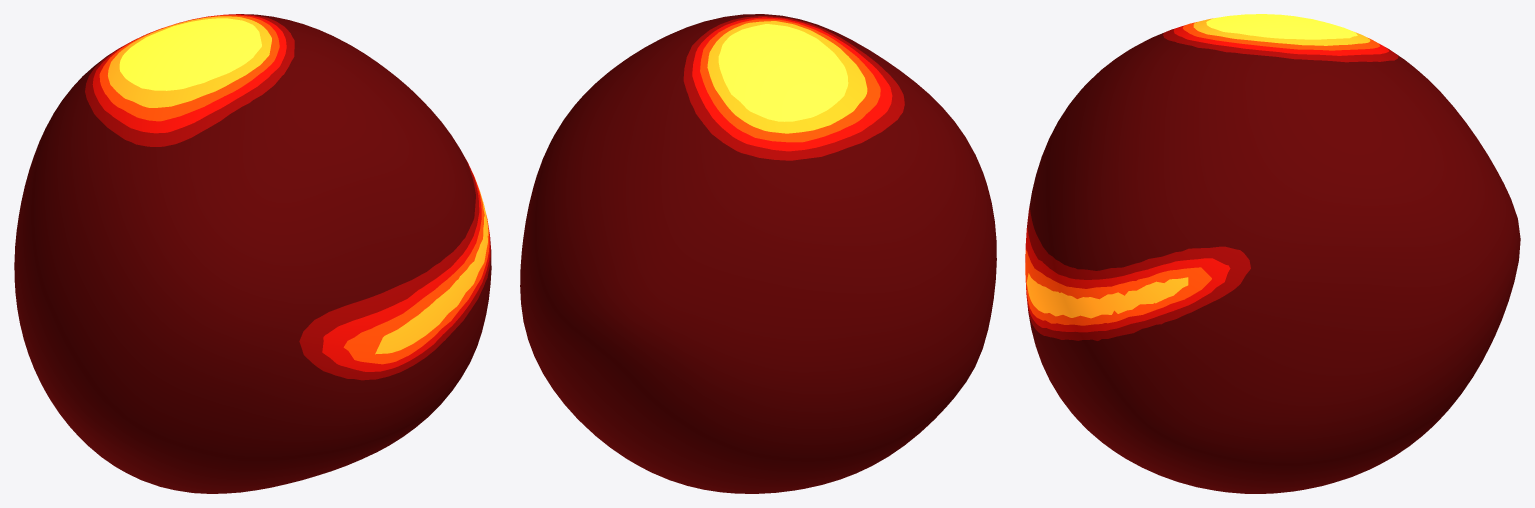
Rendered from molten_crystal_85.glb.
3 renders of one model, left to right at view 1: azimuth 30°, elevation 25°; view 2: azimuth 150°, elevation 25°; view 3: azimuth 270°, elevation 25°, orthographic. The views are drawn at different scales.
Visible parts, largest first — view 1: molten_crystal_85; view 2: molten_crystal_85; view 3: molten_crystal_85.
Part boxes in pixels (x1,y1,x2,y2): molten_crystal_85: (14, 14, 491, 493); molten_crystal_85: (520, 14, 996, 493); molten_crystal_85: (1025, 14, 1520, 493).
Size of the model in its own units: 20.77 by 21.01 by 21.49.
